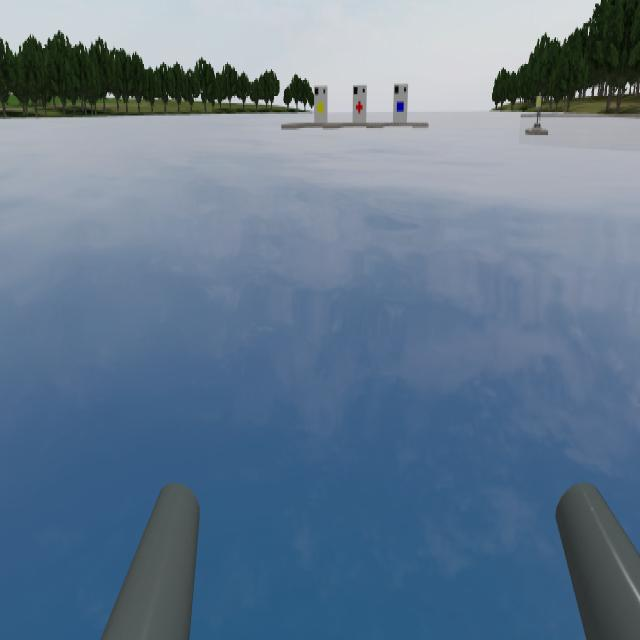yellow_pole: (532, 88, 548, 115)
